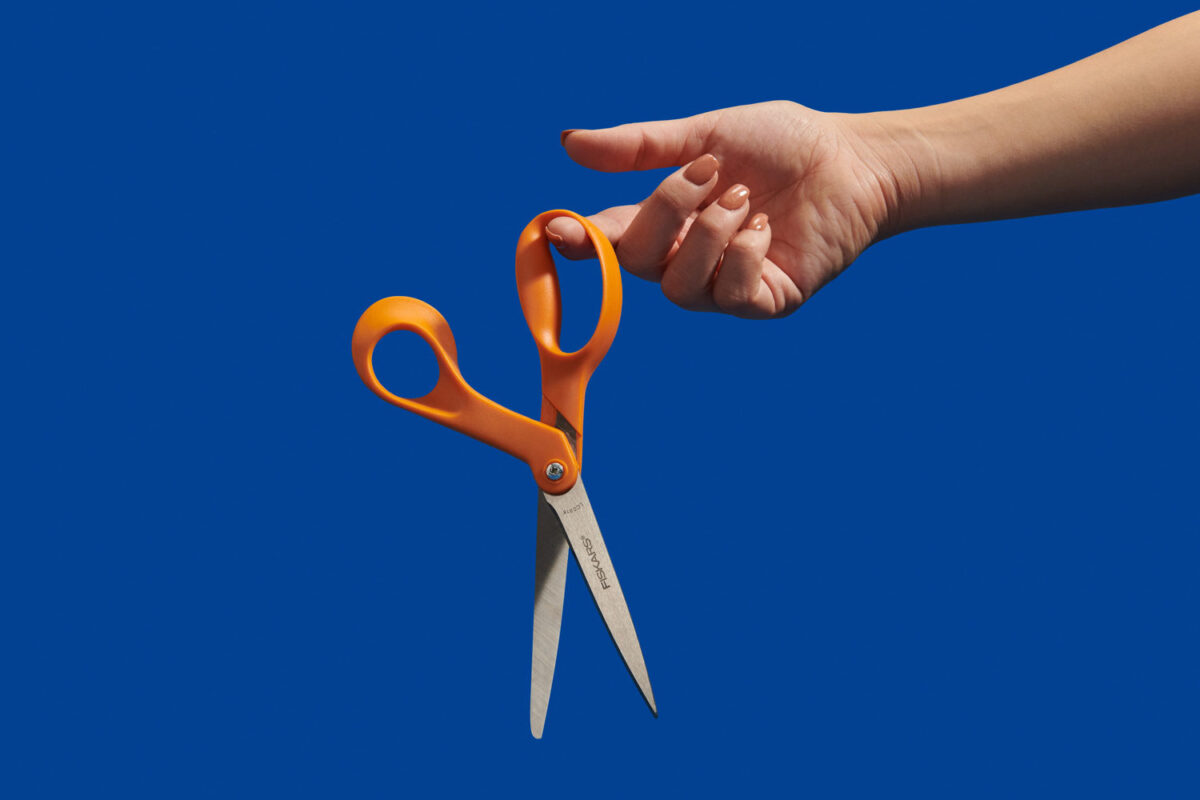scissors: (337, 205, 667, 742)
